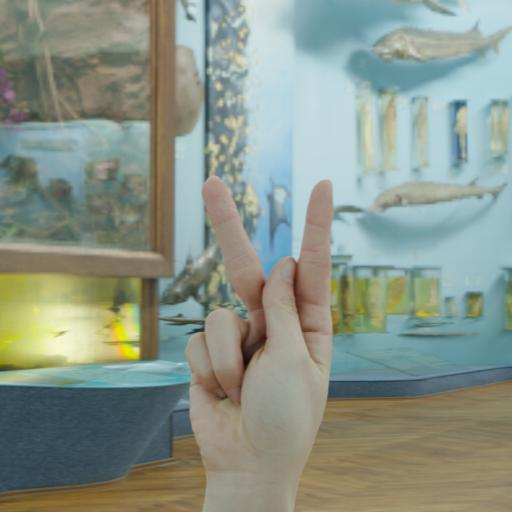K: (156, 163, 370, 499)
